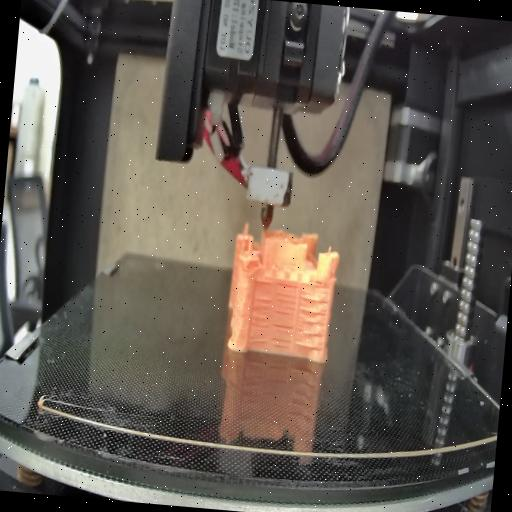cracks: (294, 294, 328, 352), (272, 294, 298, 347), (247, 296, 273, 346), (277, 280, 299, 292), (256, 276, 274, 290)
